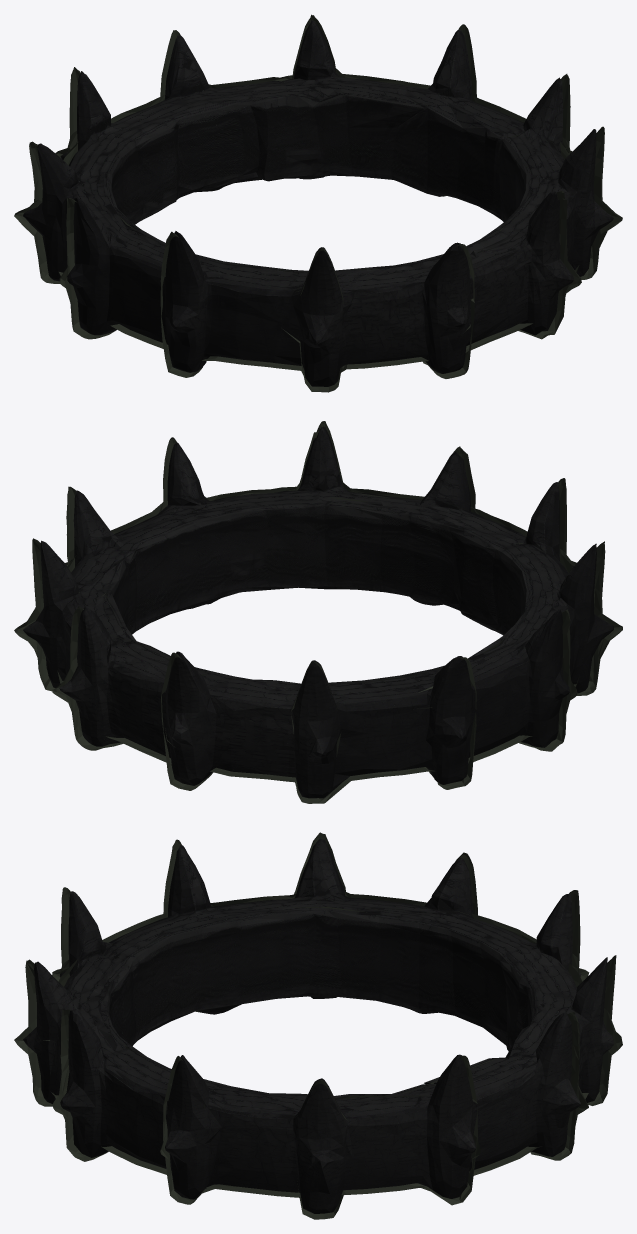
Rendered from df_v2_outpost_marker_a.glb.
3 views of the same model, one above another, from view 1: azimuth 30°, elevation 25°; view 2: azimuth 150°, elevation 25°; view 3: azimuth 270°, elevation 25° (orthographic). The views are drawn at different scales.
Visible parts, largest first — view 1: outpost_marker_mesh_01, outpost_marker_mesh_01_ink_outline; view 2: outpost_marker_mesh_01, outpost_marker_mesh_01_ink_outline; view 3: outpost_marker_mesh_01, outpost_marker_mesh_01_ink_outline.
Part boxes in pixels (box(x1,y1,x2,y2)): outpost_marker_mesh_01: box(23, 20, 613, 386); outpost_marker_mesh_01_ink_outline: box(14, 14, 622, 392); outpost_marker_mesh_01: box(23, 426, 613, 798); outpost_marker_mesh_01_ink_outline: box(14, 421, 622, 803); outpost_marker_mesh_01: box(23, 838, 613, 1213); outpost_marker_mesh_01_ink_outline: box(14, 832, 622, 1219).
Bounding box in the file's own units: 2.47 × 0.6922 × 2.47.
2 materials, 1 textured.
